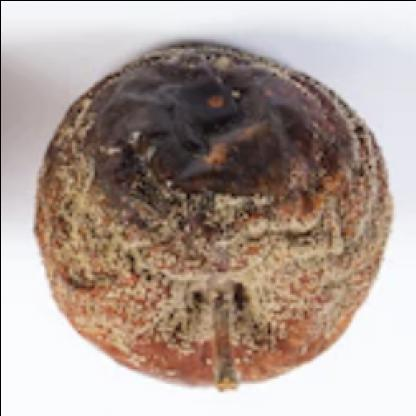Rotten Apple: (30, 44, 394, 387)
